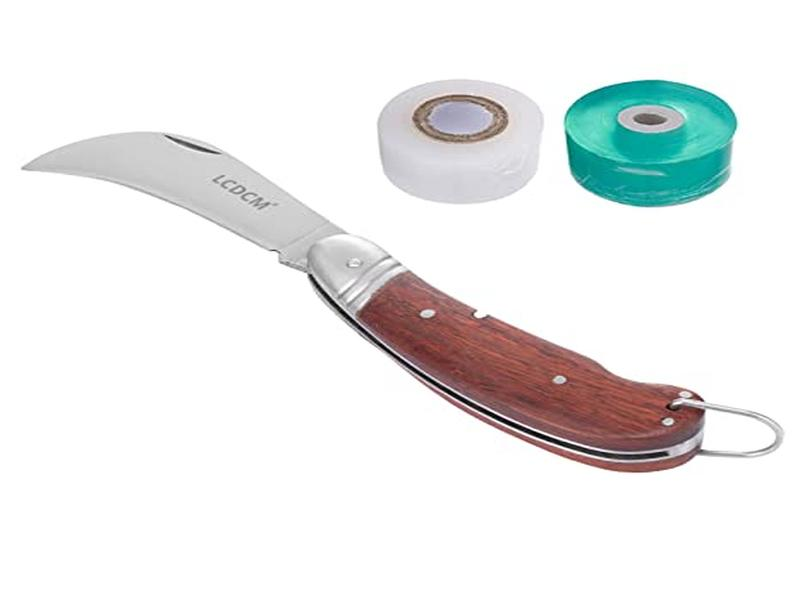KNIFE: (15, 128, 782, 480)
